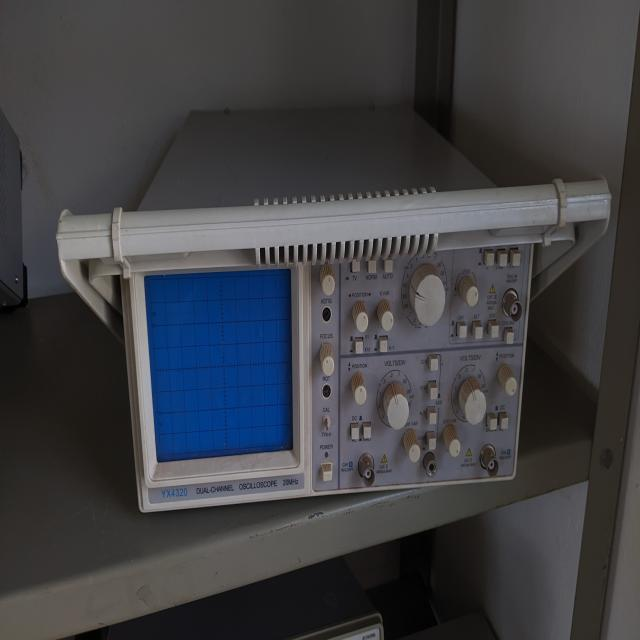Cathode Ray Oscilloscope: (36, 192, 585, 526)
